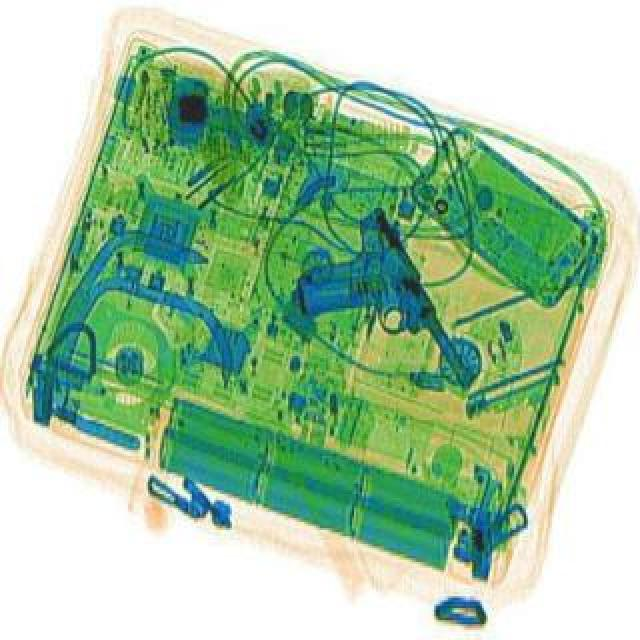gun: (276, 214, 480, 438)
